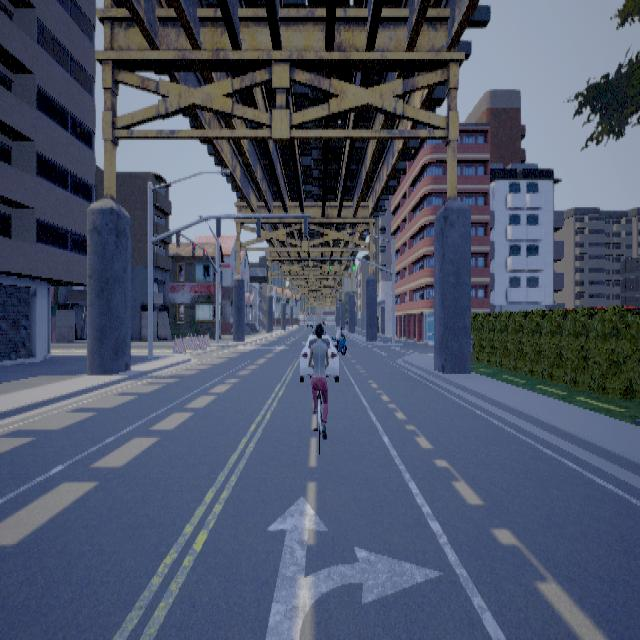bike: (307, 320, 332, 440)
green_light: (352, 256, 354, 268), (329, 257, 331, 269)
red_light: (175, 231, 180, 246), (191, 239, 195, 254), (202, 246, 206, 259)
vehicle: (299, 323, 340, 382)
